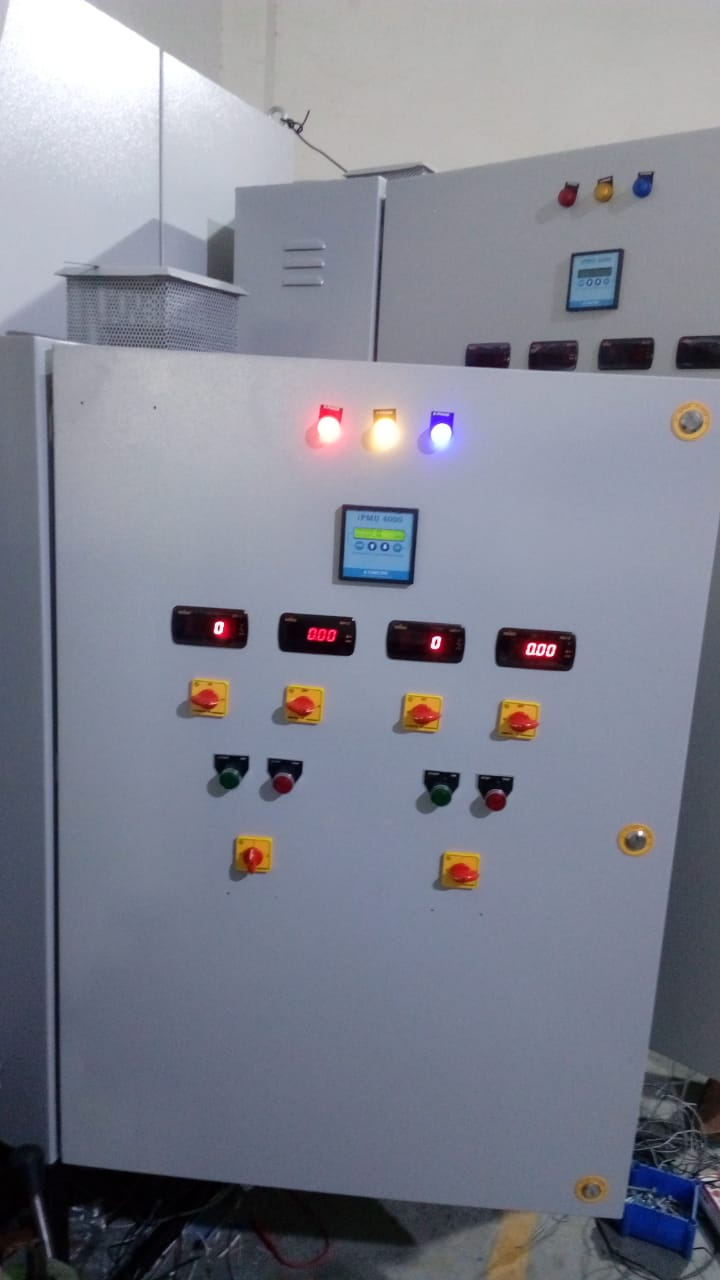Blue_Led_On: (418, 414, 465, 459)
Green_Led_Off: (206, 749, 252, 806), (420, 773, 460, 820)
Red_Led_Off: (264, 757, 304, 810), (479, 781, 525, 821)
Red_Led_On: (308, 405, 346, 450)
Yellow_Led_On: (361, 410, 411, 462)
